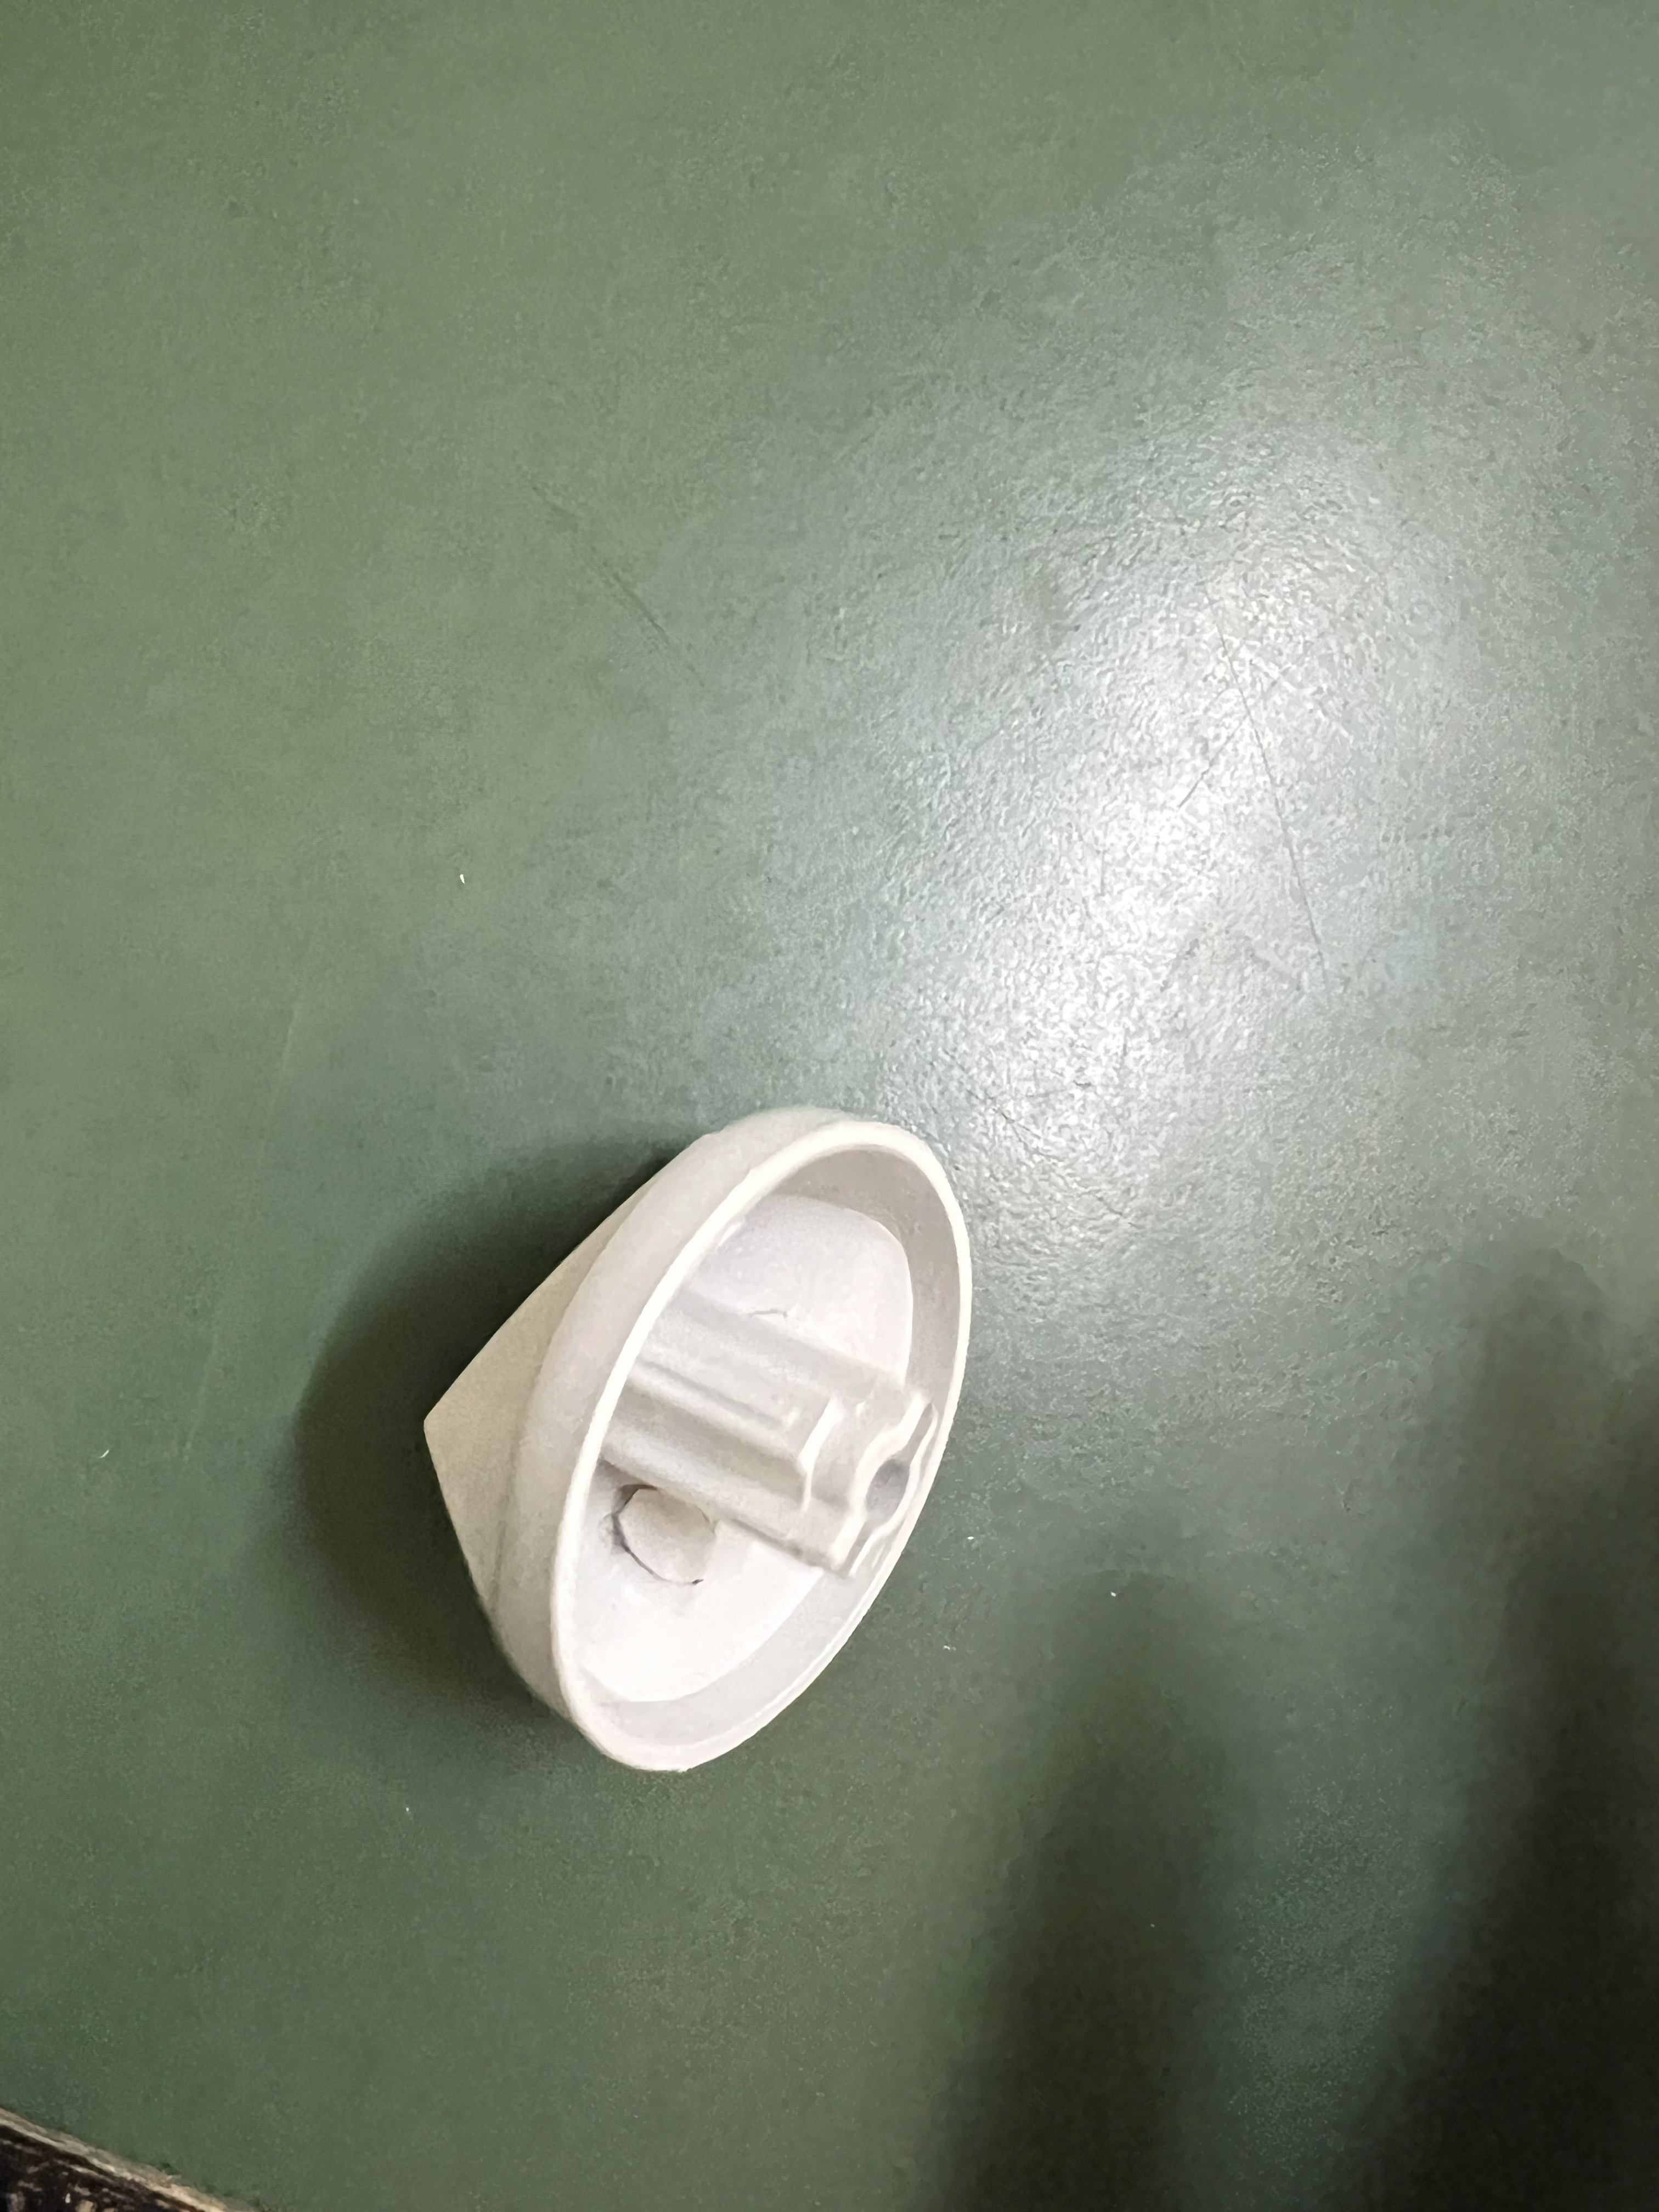regulator: (420, 1085, 972, 1770)
